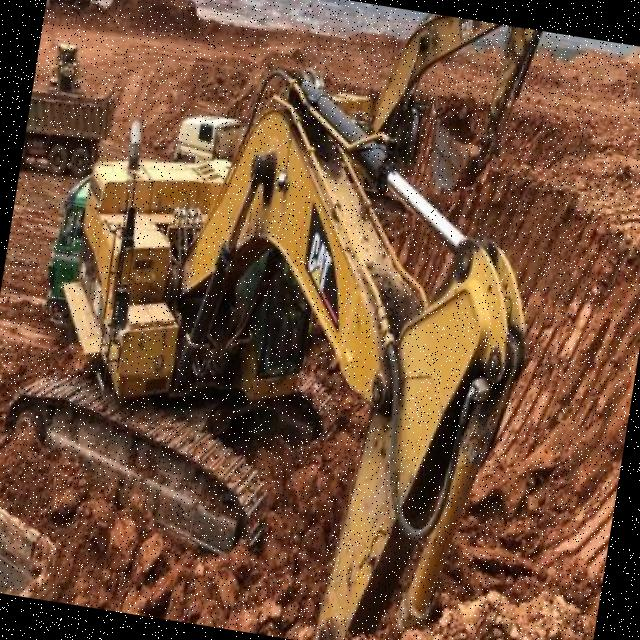Dump Truck: (22, 84, 116, 172)
Excavator: (0, 28, 567, 640), (302, 0, 546, 202), (64, 0, 131, 30)
